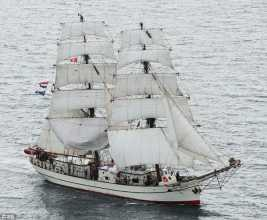fanchuan: (22, 7, 243, 205)
